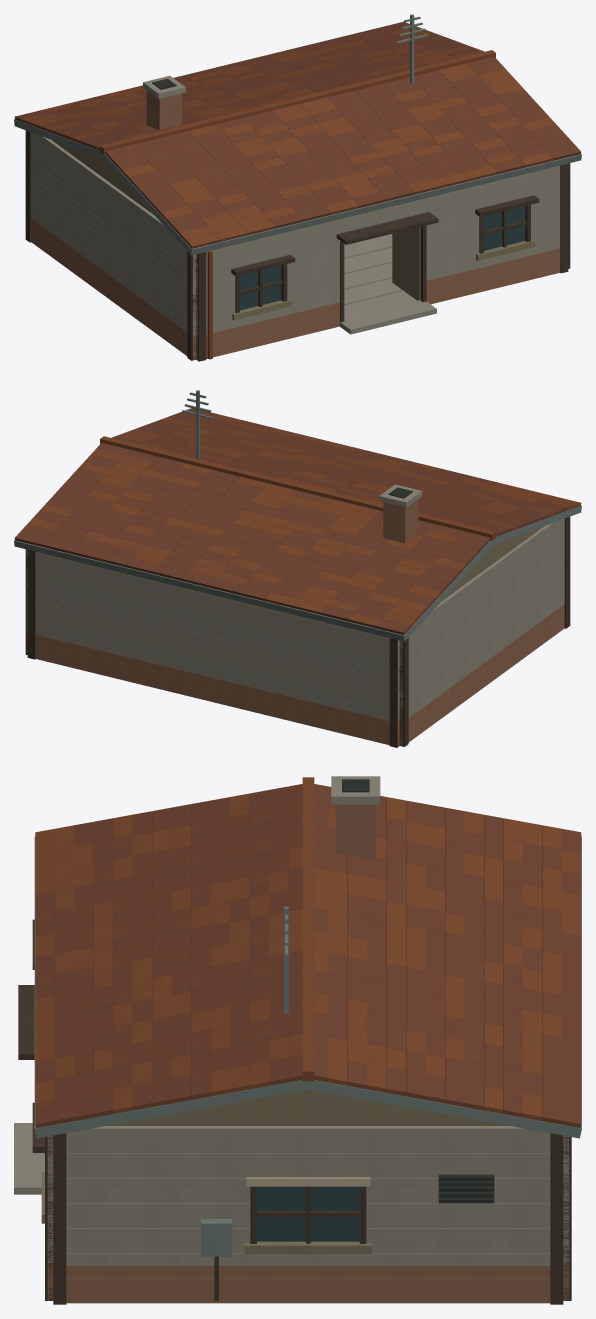
The model's file is station.glb.
3 views of the same model, one above another, from view 1: azimuth 30°, elevation 25°; view 2: azimuth 150°, elevation 25°; view 3: azimuth 270°, elevation 25° (orthographic). The views are drawn at different scales.
Visible parts, largest first — view 1: Roof, Front, FarSide, Floor, Step; view 2: Roof, Back, FarSide; view 3: Roof, NearSide, Front, Step, Back.
Boxes of the visible parts, box(x1,y1,x2,y2) form: Roof: box(14, 14, 581, 255); Front: box(196, 163, 568, 361); FarSide: box(25, 130, 196, 360); Floor: box(344, 234, 416, 318); Step: box(339, 300, 436, 334); Roof: box(14, 390, 581, 641); Back: box(27, 550, 399, 747); FarSide: box(399, 516, 570, 746); Roof: box(34, 776, 581, 1138); NearSide: box(53, 1126, 563, 1304); Front: box(18, 919, 53, 1300); Step: box(14, 1123, 44, 1194); Back: box(563, 1135, 571, 1300).
Size of the model in its own units: 9.55 by 5.07 by 7.79.
10 materials, 10 textured.
